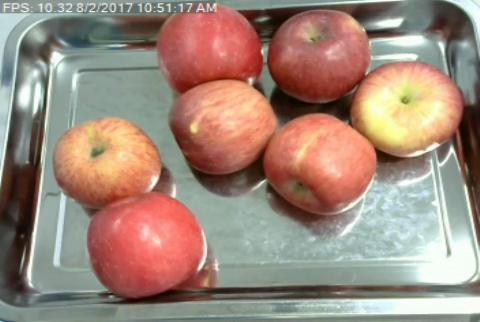apple: (87, 192, 207, 296), (266, 113, 378, 216), (351, 61, 465, 156), (169, 80, 275, 174), (52, 118, 160, 206), (269, 9, 371, 102), (158, 12, 264, 86)
